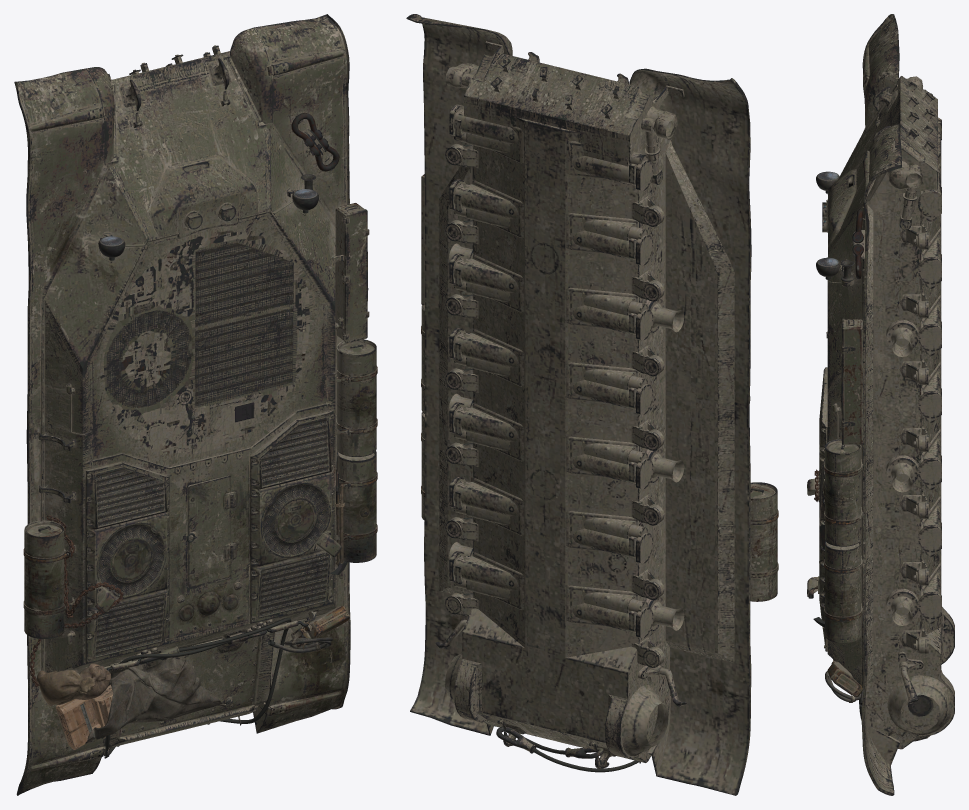
The model's file is Hull.glb.
3 renders of one model, left to right at view 1: azimuth 30°, elevation 25°; view 2: azimuth 150°, elevation 25°; view 3: azimuth 270°, elevation 25°, orthographic. The views are drawn at different scales.
Parts seen in each view (by area): view 1: set_0_group_0, set_0_group_1; view 2: set_0_group_0; view 3: set_0_group_0, set_0_group_1.
Boxes of the visible parts, x1,y1,x2,y2 form: set_0_group_0: (14,14,377,795); set_0_group_1: (36,492,349,749); set_0_group_0: (406,14,778,795); set_0_group_0: (807,14,954,795); set_0_group_1: (819,561,863,697).
Bounding box in the file's own units: 3.61 × 7.05 × 1.46.
Materials: 2 (2 with a texture image).
